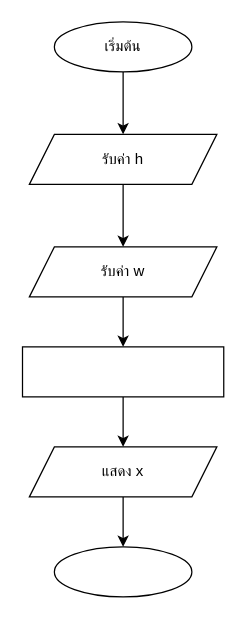
Some shapes in this 245 by 619 pixel diagram are drawn without their labels. Each missing label, with the centre of its shape:
"x = ( h * w ) / 2" belongs at point (122, 371).
"จบ" belongs at point (122, 571).
